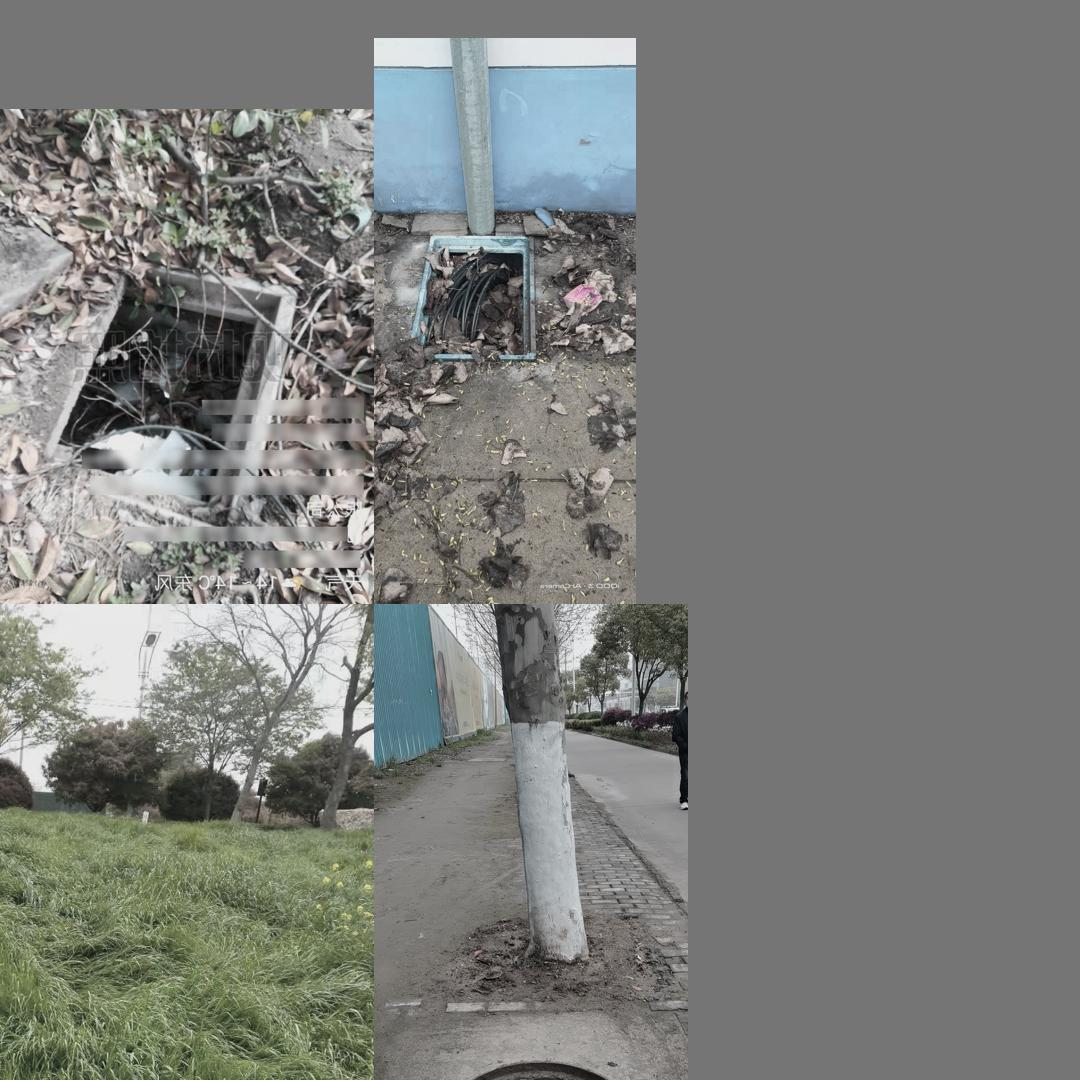lose: (40, 260, 298, 539), (409, 229, 542, 363), (430, 1057, 649, 1080)
